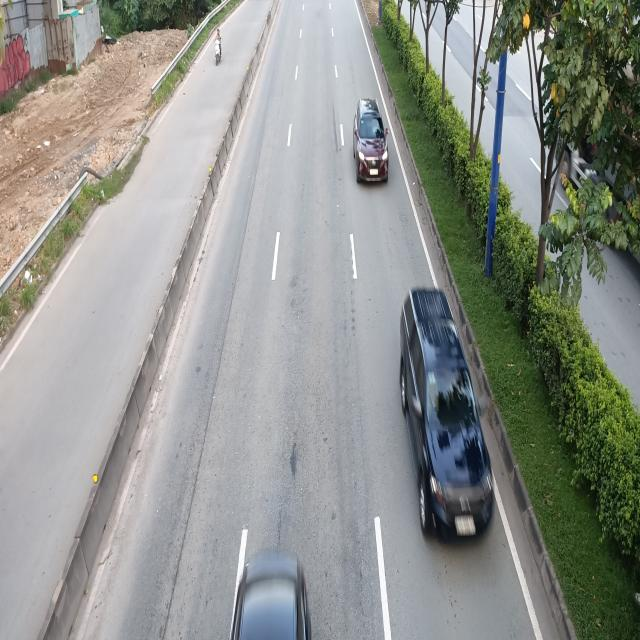car: (400, 289, 495, 550), (352, 99, 388, 185)
